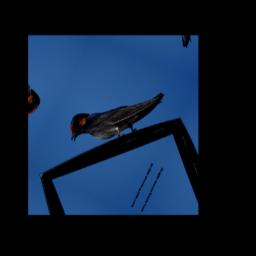Swallow: (64, 65, 165, 166)
